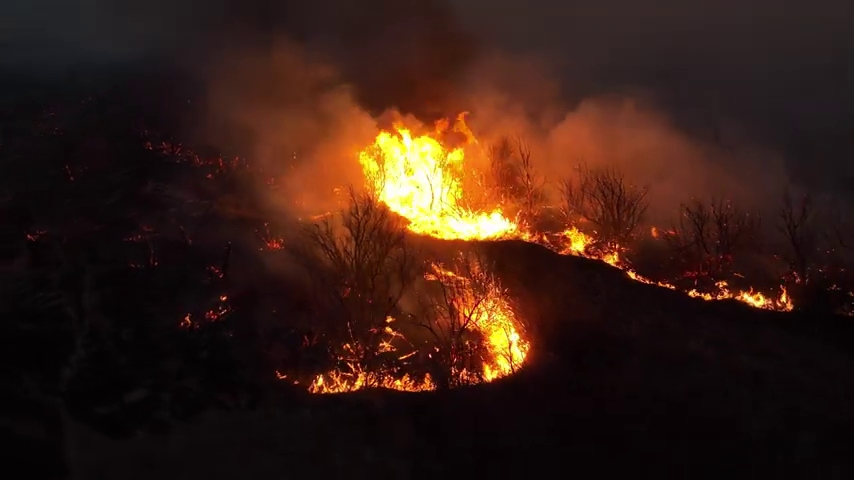forest_fire: (359, 126, 538, 241), (543, 227, 674, 288), (463, 280, 529, 380), (310, 367, 435, 393), (688, 284, 791, 310), (427, 263, 473, 287)
